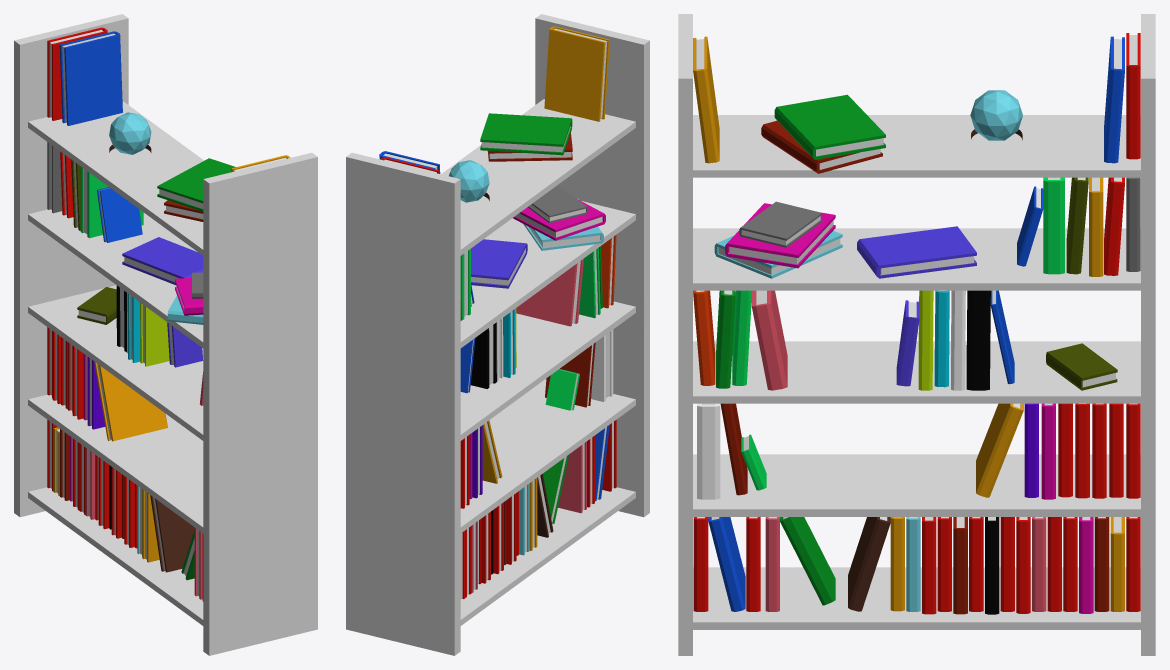
Rendered from AS_Bookshelf.fbx.
3 views of the same model, side by side, from view 1: azimuth 30°, elevation 25°; view 2: azimuth 150°, elevation 25°; view 3: azimuth 270°, elevation 25° (orthographic). The views are drawn at different scales.
Parts seen in each view (by area): view 1: Cube.019; view 2: Cube.019; view 3: Cube.019.
Part boxes in pixels (<box>): Cube.019: <box>14,14,317,655</box>; Cube.019: <box>346,14,649,655</box>; Cube.019: <box>678,14,1155,655</box>.
Bounding box in the file's own units: 200 × 831 × 623.
